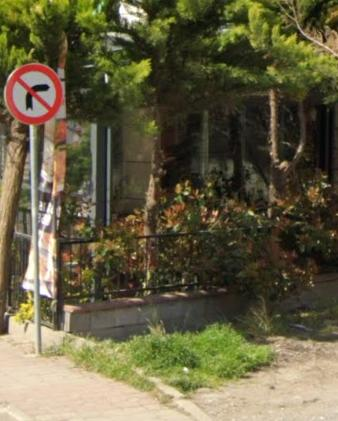rightturnsareforbidden: (9, 65, 60, 125)
